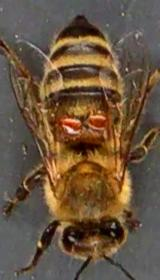varroa_mite: (81, 107, 112, 134), (56, 112, 84, 140)
